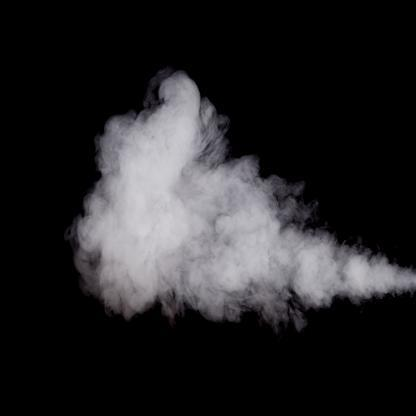smoke: (64, 70, 266, 326), (268, 198, 415, 321)
